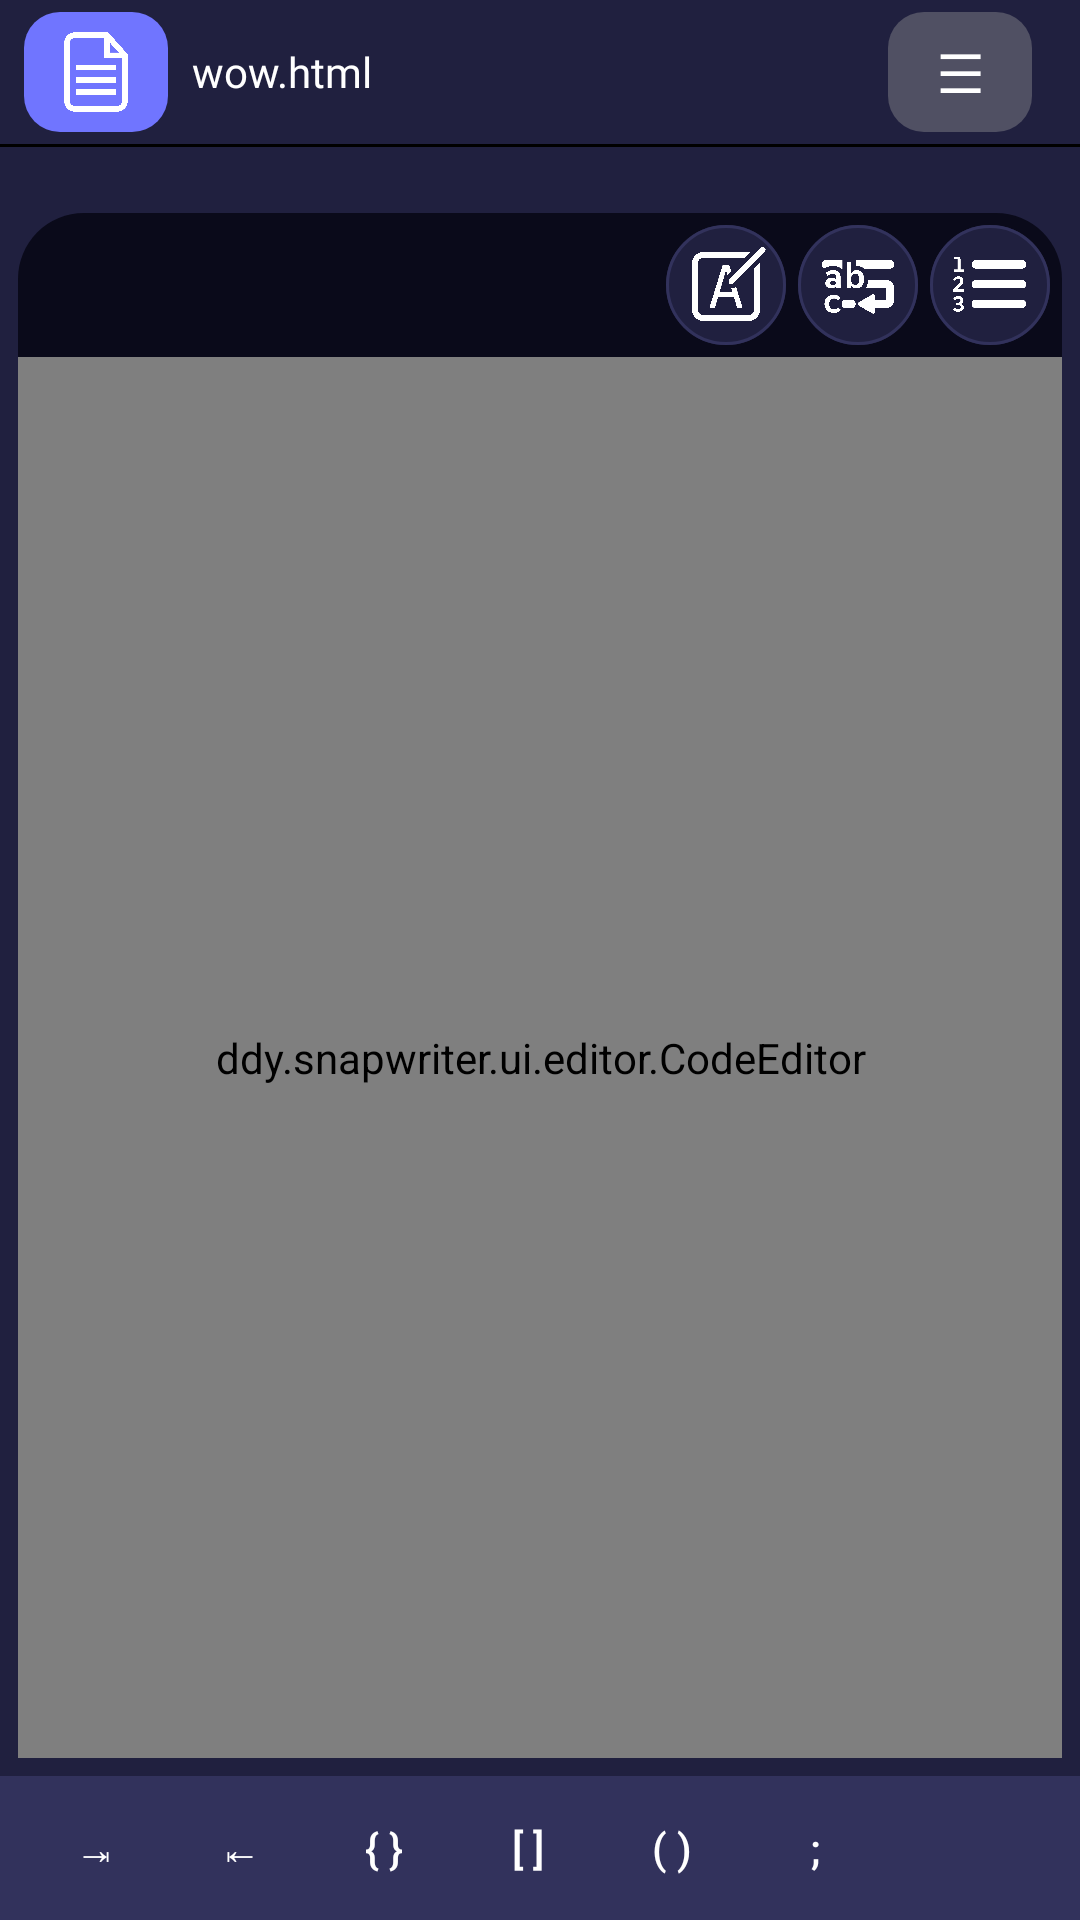

Icons on this 1080px×1920px Android screen, each with its box as (x1, y1, x2, y2):
file: (24, 12, 168, 132)
line nums: (930, 225, 1050, 345)
word wrap: (798, 225, 918, 345)
